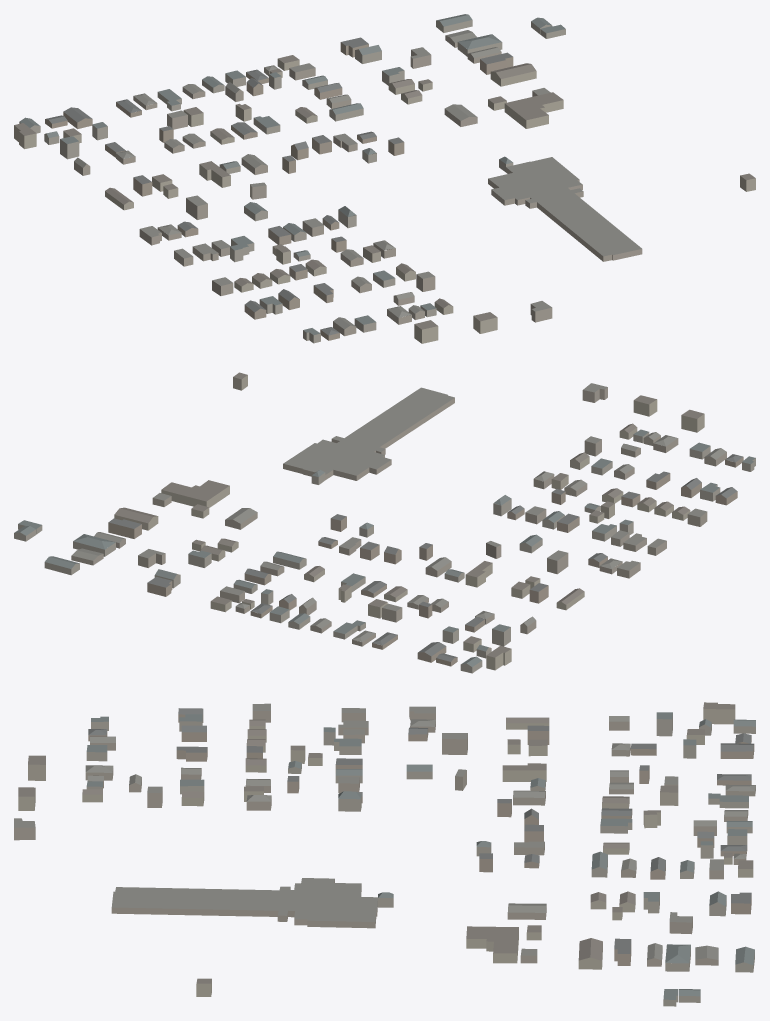
The model's file is 7d568af55977-chunk-1199_11841.glb.
The picture shows the model from 3 angles, top to bottom: view 1: azimuth 30°, elevation 25°; view 2: azimuth 150°, elevation 25°; view 3: azimuth 270°, elevation 25°; orthographic projection. The views are drawn at different scales.
Parts seen in each view (by area): view 1: building_60257, building_159743, building_58804, building_142020, building_114716; view 2: building_60257, building_159743, building_142020, building_58804, building_85014; view 3: building_60257, building_159743, building_114716, building_58804, building_142020, building_3030, building_150389, building_1203, building_146650, building_10482.
Boxes of the visible parts, x1=… form: building_60257: x1=488, y1=157, x2=642, y2=261; building_159743: x1=504, y1=92, x2=563, y2=128; building_58804: x1=490, y1=63, x2=536, y2=86; building_142020: x1=457, y1=34, x2=502, y2=56; building_114716: x1=199, y1=161, x2=230, y2=187; building_60257: x1=283, y1=387, x2=454, y2=480; building_159743: x1=161, y1=480, x2=229, y2=507; building_142020: x1=73, y1=534, x2=115, y2=556; building_58804: x1=114, y1=507, x2=158, y2=530; building_85014: x1=108, y1=518, x2=141, y2=538; building_60257: x1=111, y1=878, x2=377, y2=928; building_159743: x1=466, y1=926, x2=518, y2=963; building_114716: x1=502, y1=763, x2=546, y2=781; building_58804: x1=578, y1=938, x2=602, y2=969; building_142020: x1=665, y1=944, x2=690, y2=971; building_3030: x1=507, y1=903, x2=546, y2=919; building_150389: x1=703, y1=702, x2=735, y2=724; building_1203: x1=442, y1=733, x2=467, y2=754; building_146650: x1=720, y1=743, x2=754, y2=758; building_10482: x1=708, y1=793, x2=748, y2=808.
Bounding box in the file's own units: 359 × 10.19 × 386.
